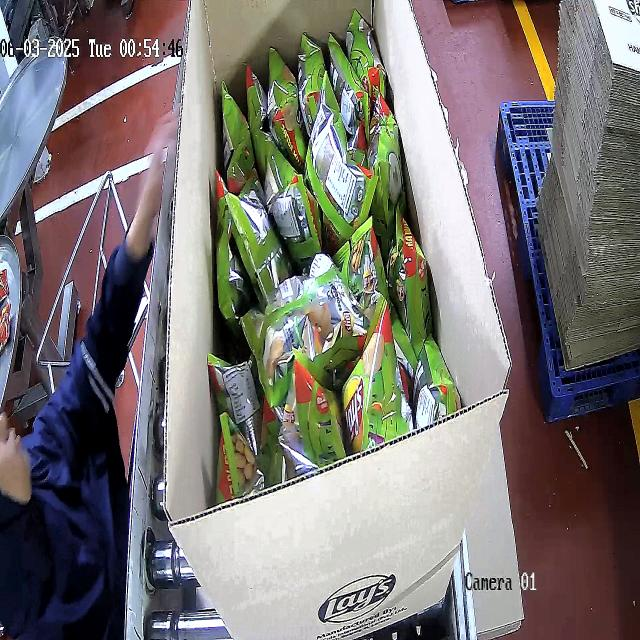YOGURT_HERB: (212, 11, 460, 495)
